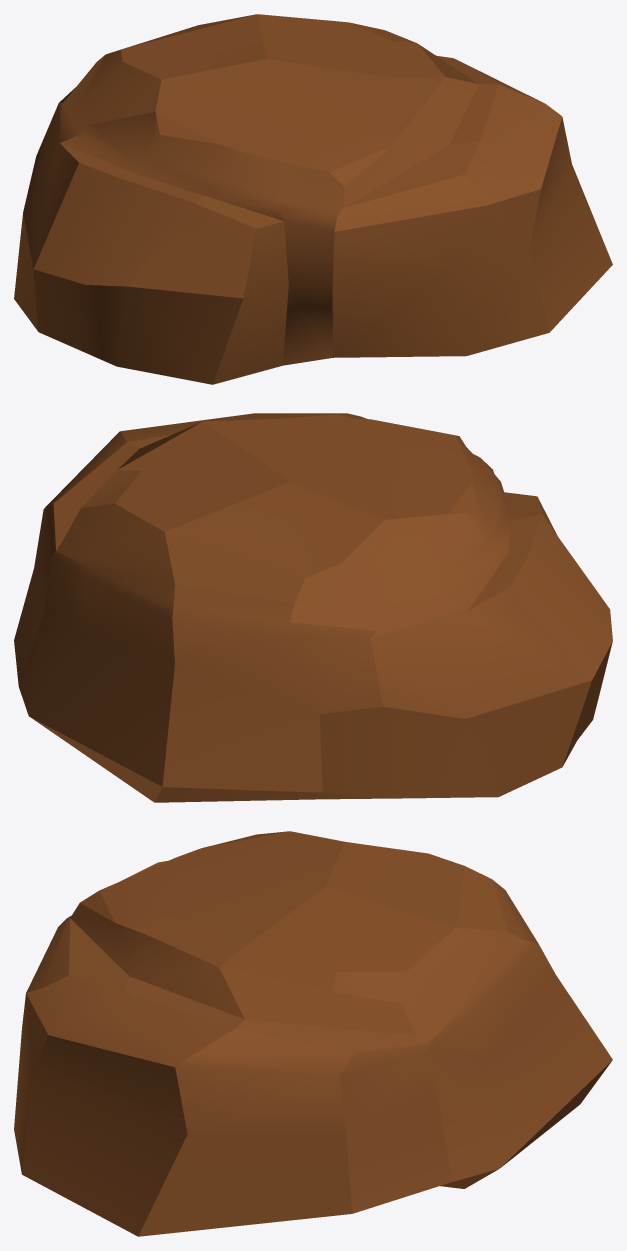
The model's file is rock_large.glb.
3 views of the same model, one above another, from view 1: azimuth 30°, elevation 25°; view 2: azimuth 150°, elevation 25°; view 3: azimuth 270°, elevation 25° (orthographic). The views are drawn at different scales.
Parts seen in each view (by area): view 1: Rock_Large_1; view 2: Rock_Large_1; view 3: Rock_Large_1.
Boxes of the visible parts, x1,y1,x2,y2 form: Rock_Large_1: (14,14,612,384); Rock_Large_1: (14,413,612,802); Rock_Large_1: (14,831,612,1236).
Bounding box in the file's own units: 7.67 × 3.29 × 7.33.
1 material, 1 textured.
